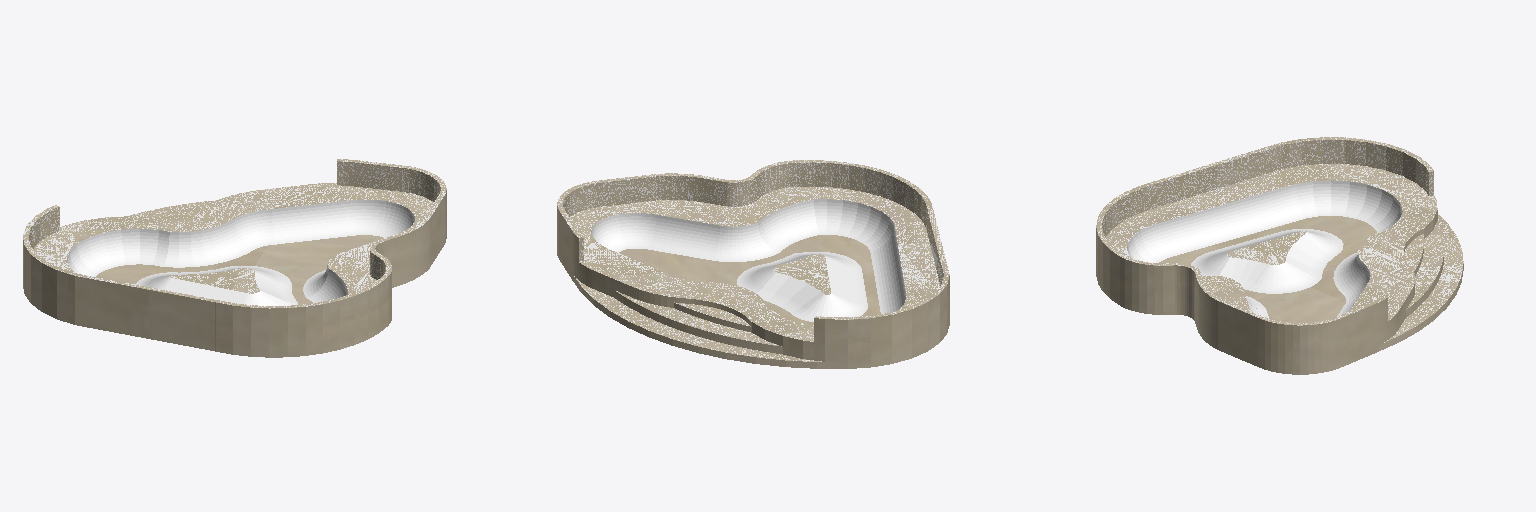
3 views of the same model, side by side, from view 1: azimuth 30°, elevation 25°; view 2: azimuth 150°, elevation 25°; view 3: azimuth 270°, elevation 25° (orthographic).
Visible parts, largest first — view 1: mesh1_mesh1-geometry; view 2: mesh1_mesh1-geometry; view 3: mesh1_mesh1-geometry.
Boxes of the visible parts, <box> form: mesh1_mesh1-geometry: <box>23,159,446,357</box>; mesh1_mesh1-geometry: <box>557,160,949,368</box>; mesh1_mesh1-geometry: <box>1096,137,1463,374</box>.
Bounding box in the file's own units: 0.7682 × 0.0936 × 0.6333.
Materials: 5 (1 with a texture image).